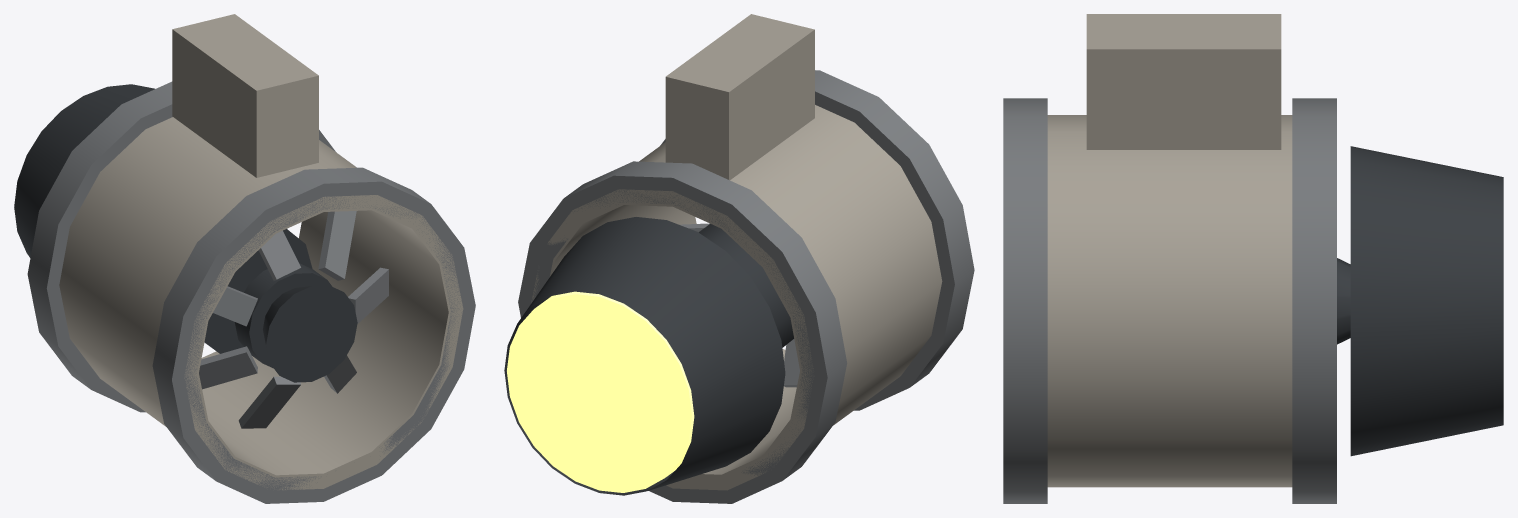
Rendered from smallmotor.fbx.
3 renders of one model, left to right at view 1: azimuth 30°, elevation 25°; view 2: azimuth 150°, elevation 25°; view 3: azimuth 270°, elevation 25°, orthographic. The views are drawn at different scales.
Parts seen in each view (by area): view 1: Part_SmallMotor; view 2: Part_SmallMotor; view 3: Part_SmallMotor.
Boxes of the visible parts, box(x1,y1,x2,y2) form: Part_SmallMotor: box(14, 14, 475, 503); Part_SmallMotor: box(504, 14, 974, 503); Part_SmallMotor: box(1003, 14, 1503, 503).
Size of the model in its own units: 146 by 180 by 180.
